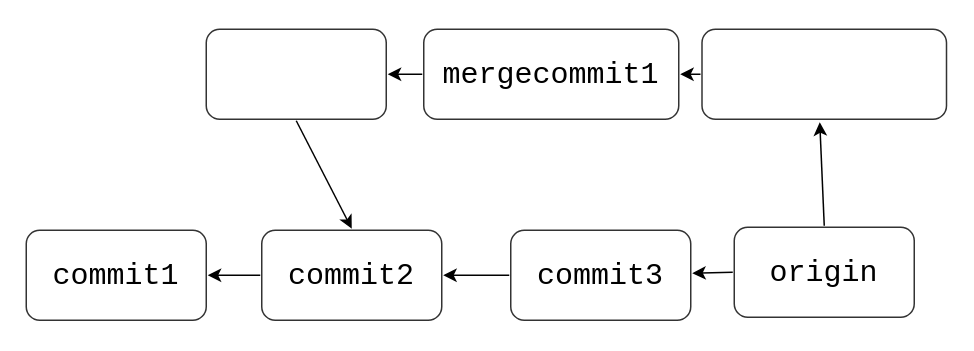
The diagram is 974 pixels wide and 351 high, and some of its shapes have lost their labels. The centre of each missing label's shape, as x and y in pixels:
"mergeCommit" belongs at point (823, 73).
"mergecommit2" belongs at point (295, 73).
